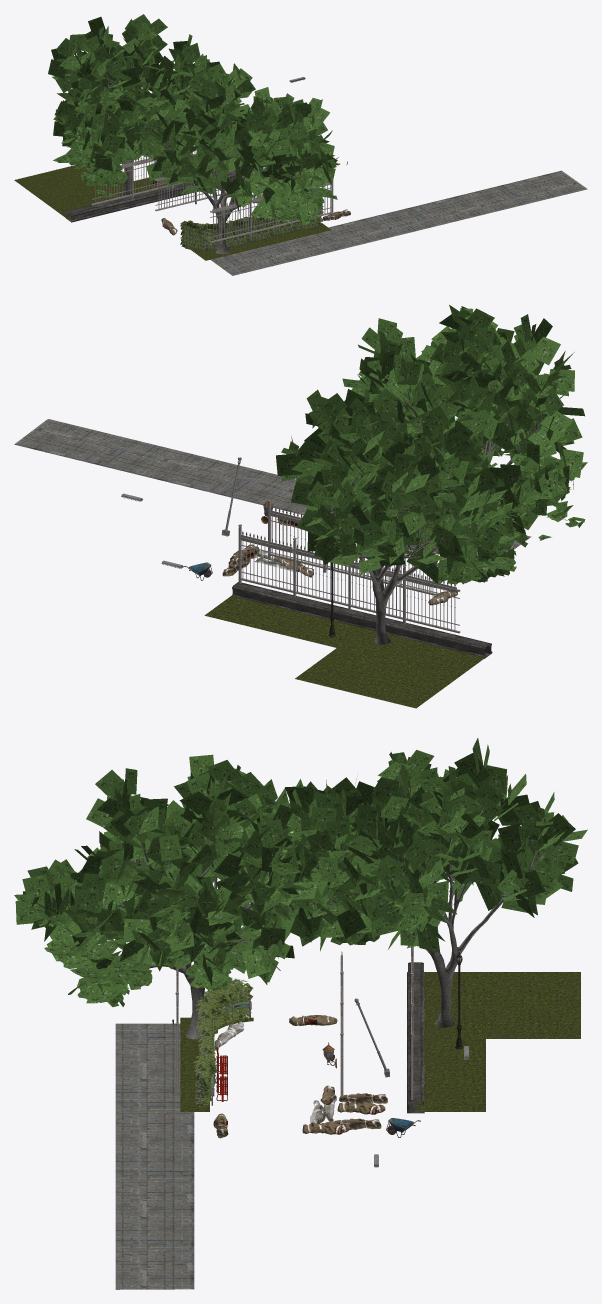
The model's file is sm301_01_201room_04.fbx.
3 views of the same model, one above another, from view 1: azimuth 30°, elevation 25°; view 2: azimuth 150°, elevation 25°; view 3: azimuth 270°, elevation 25° (orthographic). The views are drawn at different scales.
Parts seen in each view (by area): view 1: 0052_sm10006LargeTree01A00ms_1_Group_2_Sub_1__sm10_006__f99, 0014_st42010Terrain00ms_1_Group_0_Sub_15__st1_townSide0_6d9, 0011_st42010Terrain00ms_1_Group_0_Sub_12__st1_GroundWild01_, 0040_sm25066townFence01A00ms_1_Group_0_Sub_1__st1_townP_4d6, 0094_sm10014BoxWood01A00ms_1_Group_0_Sub_1__sm10_014_Bo_240, 0003_st42010Terrain00ms_1_Group_0_Sub_4__st1_townPolice00_M, 0048_sm10006LargeTree01A00ms_1_Group_0_Sub_1__sm10_006__f92, 0042_sm26032humanBag01B00ms_1_Group_0_Sub_1__sm26_032_h_0dd; view 2: 0052_sm10006LargeTree01A00ms_1_Group_2_Sub_1__sm10_006__f99, 0011_st42010Terrain00ms_1_Group_0_Sub_12__st1_GroundWild01_, 0014_st42010Terrain00ms_1_Group_0_Sub_15__st1_townSide0_6d9, 0040_sm25066townFence01A00ms_1_Group_0_Sub_1__st1_townP_4d6, 0003_st42010Terrain00ms_1_Group_0_Sub_4__st1_townPolice00_M, 0048_sm10006LargeTree01A00ms_1_Group_0_Sub_1__sm10_006__f92, 0042_sm26032humanBag01B00ms_1_Group_0_Sub_1__sm26_032_h_0dd, 0050_sm10006LargeTree01A00ms_1_Group_1_Sub_1__sm10_006__ad8; view 3: 0052_sm10006LargeTree01A00ms_1_Group_2_Sub_1__sm10_006__f99, 0014_st42010Terrain00ms_1_Group_0_Sub_15__st1_townSide0_6d9, 0011_st42010Terrain00ms_1_Group_0_Sub_12__st1_GroundWild01_, 0094_sm10014BoxWood01A00ms_1_Group_0_Sub_1__sm10_014_Bo_240, 0048_sm10006LargeTree01A00ms_1_Group_0_Sub_1__sm10_006__f92, 0003_st42010Terrain00ms_1_Group_0_Sub_4__st1_townPolice00_M, 0042_sm26032humanBag01B00ms_1_Group_0_Sub_1__sm26_032_h_0dd, 0040_sm25066townFence01A00ms_1_Group_0_Sub_1__st1_townP_4d6, 0044_sm26031humanBag01A00ms_1_Group_0_Sub_1__sm26_031_h_5b2, 0043_sm26033humanBag02A00ms_1_Group_0_Sub_1__sm26_033_h_3d6.
Boxes of the visible parts, x1,y1,x2,y2 form: 0052_sm10006LargeTree01A00ms_1_Group_2_Sub_1__sm10_006__f99: (48,14,340,224); 0014_st42010Terrain00ms_1_Group_0_Sub_15__st1_townSide0_6d9: (210,170,587,275); 0011_st42010Terrain00ms_1_Group_0_Sub_12__st1_GroundWild01_: (14,165,331,260); 0040_sm25066townFence01A00ms_1_Group_0_Sub_1__st1_townP_4d6: (91,145,333,242); 0094_sm10014BoxWood01A00ms_1_Group_0_Sub_1__sm10_014_Bo_240: (180,207,323,250); 0003_st42010Terrain00ms_1_Group_0_Sub_4__st1_townPolice00_M: (66,171,245,222); 0048_sm10006LargeTree01A00ms_1_Group_0_Sub_1__sm10_006__f92: (82,65,318,255); 0042_sm26032humanBag01B00ms_1_Group_0_Sub_1__sm26_032_h_0dd: (161,193,350,235); 0052_sm10006LargeTree01A00ms_1_Group_2_Sub_1__sm10_006__f99: (276,305,587,584); 0011_st42010Terrain00ms_1_Group_0_Sub_12__st1_GroundWild01_: (204,552,488,708); 0014_st42010Terrain00ms_1_Group_0_Sub_15__st1_townSide0_6d9: (14,419,531,552); 0040_sm25066townFence01A00ms_1_Group_0_Sub_1__st1_townP_4d6: (238,493,460,633); 0003_st42010Terrain00ms_1_Group_0_Sub_4__st1_townPolice00_M: (231,582,492,658); 0048_sm10006LargeTree01A00ms_1_Group_0_Sub_1__sm10_006__f92: (326,354,567,644); 0042_sm26032humanBag01B00ms_1_Group_0_Sub_1__sm26_032_h_0dd: (222,517,457,605); 0050_sm10006LargeTree01A00ms_1_Group_1_Sub_1__sm10_006__ad8: (300,349,571,568); 0052_sm10006LargeTree01A00ms_1_Group_2_Sub_1__sm10_006__f99: (14,738,587,1006); 0014_st42010Terrain00ms_1_Group_0_Sub_15__st1_townSide0_6d9: (115,1023,194,1289); 0011_st42010Terrain00ms_1_Group_0_Sub_12__st1_GroundWild01_: (180,972,580,1111); 0094_sm10014BoxWood01A00ms_1_Group_0_Sub_1__sm10_014_Bo_240: (193,978,253,1107); 0048_sm10006LargeTree01A00ms_1_Group_0_Sub_1__sm10_006__f92: (84,782,551,1039); 0003_st42010Terrain00ms_1_Group_0_Sub_4__st1_townPolice00_M: (407,962,424,1113); 0042_sm26032humanBag01B00ms_1_Group_0_Sub_1__sm26_032_h_0dd: (213,1015,387,1138); 0040_sm25066townFence01A00ms_1_Group_0_Sub_1__st1_townP_4d6: (175,947,413,1099); 0044_sm26031humanBag01A00ms_1_Group_0_Sub_1__sm26_031_h_5b2: (302,1102,385,1134); 0043_sm26033humanBag02A00ms_1_Group_0_Sub_1__sm26_033_h_3d6: (214,1021,336,1124).
Size of the model in its own units: 32.39 by 12.81 by 23.81.
